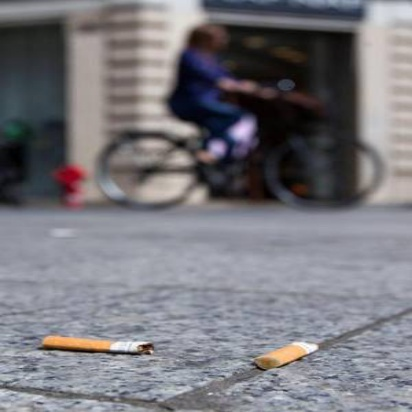cigarette: (38, 326, 155, 363), (254, 333, 323, 377)
